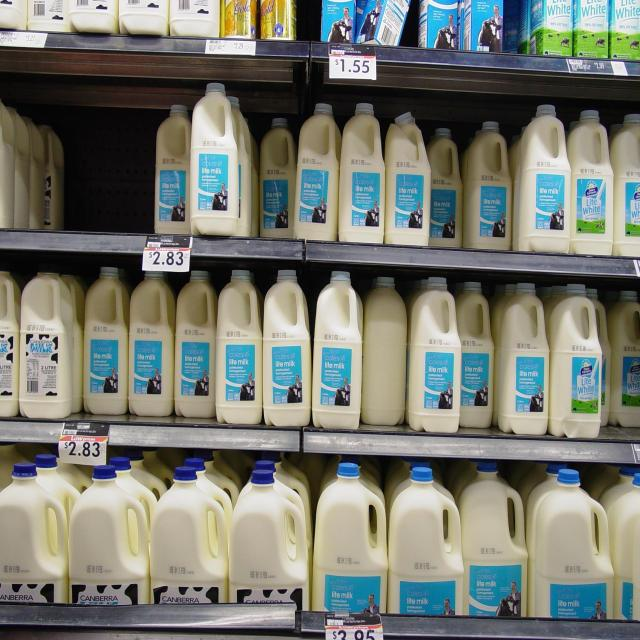empty_space: (61, 106, 144, 230)
